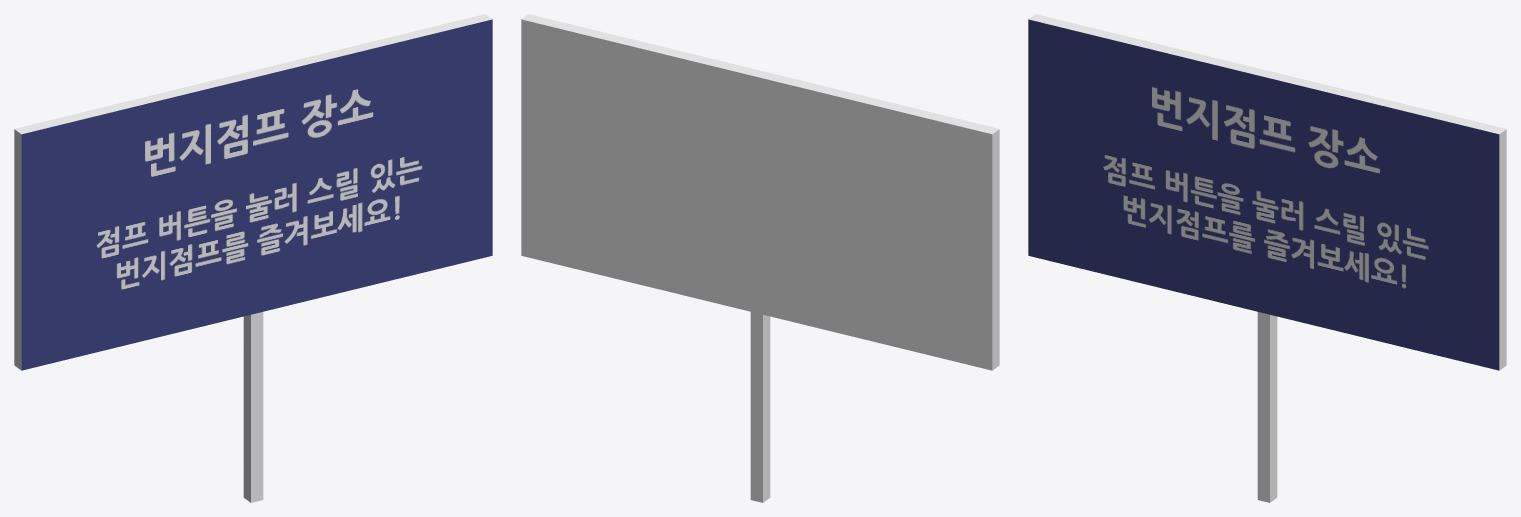
The model's file is bungee_info_02.fbx.
3 views of the same model, side by side, from view 1: azimuth 30°, elevation 25°; view 2: azimuth 150°, elevation 25°; view 3: azimuth 330°, elevation 25° (orthographic).
Visible parts, largest first — view 1: bungee_info1; view 2: bungee_info1; view 3: bungee_info1.
Boxes of the visible parts, box(x1,y1,x2,y2) form: bungee_info1: box(14, 14, 492, 502); bungee_info1: box(521, 14, 999, 502); bungee_info1: box(1028, 14, 1506, 502).
Bounding box in the file's own units: 0.00938 × 0.00808 × 0.000254.
1 material, 1 textured.
